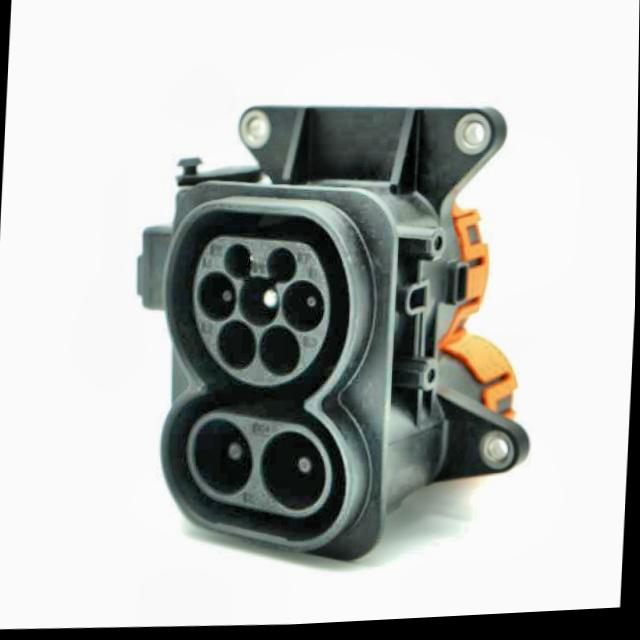inlet: (195, 238, 330, 389)
inlet-above-left: (225, 246, 253, 281)
inlet-above-right: (268, 250, 297, 286)
inlet-below-left: (218, 322, 257, 371)
inlet-below-right: (260, 328, 300, 378)
inlet-center: (240, 279, 279, 328)
inlet-center-left: (199, 273, 237, 322)
inlet-center-right: (283, 283, 325, 334)
